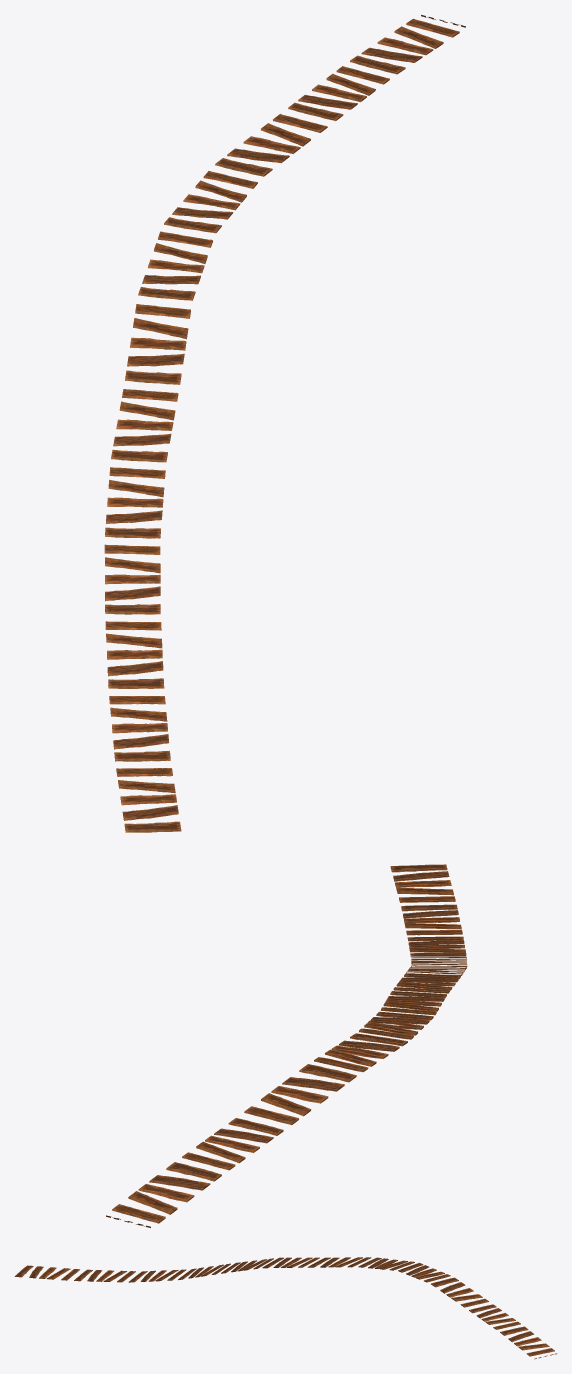
Rendered from SWORDLIGHT20_LOFT01.fbx.
The picture shows the model from 3 angles, top to bottom: view 1: azimuth 30°, elevation 25°; view 2: azimuth 210°, elevation 25°; view 3: azimuth 270°, elevation 25°; orthographic projection. The views are drawn at different scales.
Parts seen in each view (by area): view 1: SWORDLIGHT20_LOFT01; view 2: SWORDLIGHT20_LOFT01; view 3: SWORDLIGHT20_LOFT01.
Boxes of the visible parts, x1,y1,x2,y2 form: SWORDLIGHT20_LOFT01: (104,15,465,832); SWORDLIGHT20_LOFT01: (106,864,467,1227); SWORDLIGHT20_LOFT01: (14,1257,557,1359).
Bounding box in the file's own units: 285671 × 74702 × 316961.
Materials: 1 (1 with a texture image).
